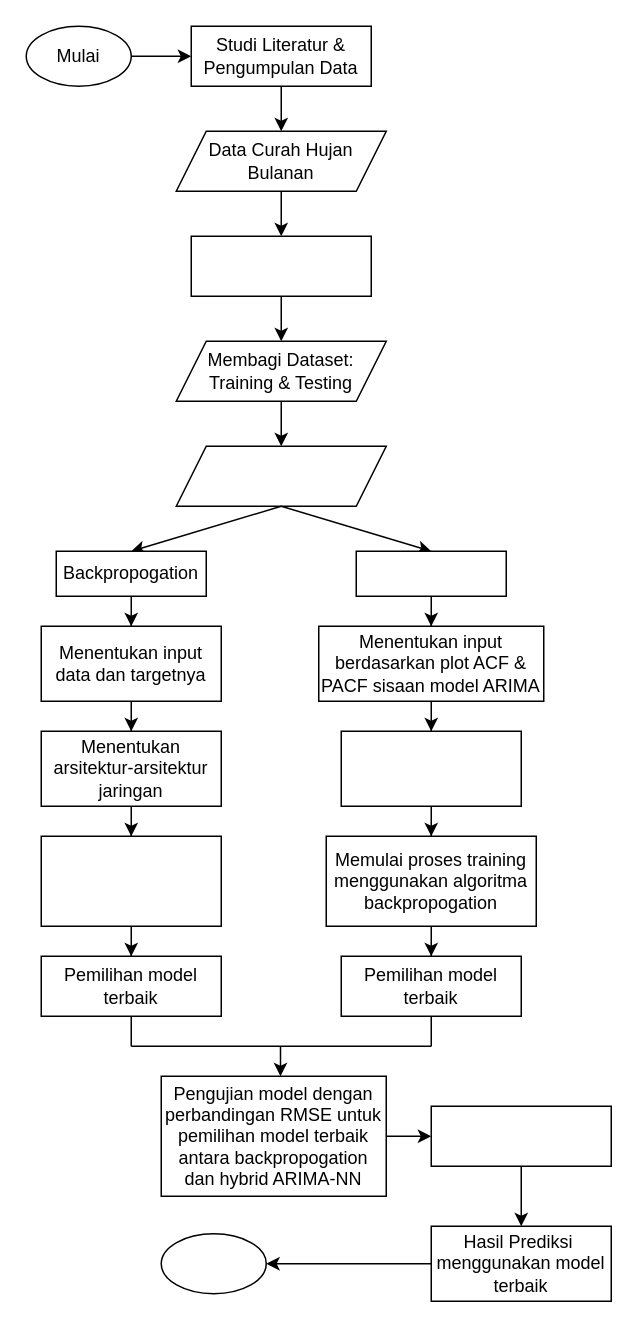
The diagram is 638 pixels wide and 1328 high, and some of its shapes have lost their labels. Here are the shapes that lost their labels. From the top down, the centre of each, then its label:
At point 280,265: "Normalisasi Data".
At point 280,475: "Pembentukan Model".
At point 430,573: "Hybrid ARIMA-NN".
At point 430,768: "Menentukan banyaknya neuron & hidden layer".
At point 130,880: "Memulai proses training dan evaluasi model dengan data testing".
At point 520,1135: "Denormalisasi Data".
At point 213,1263: "Selesai".
